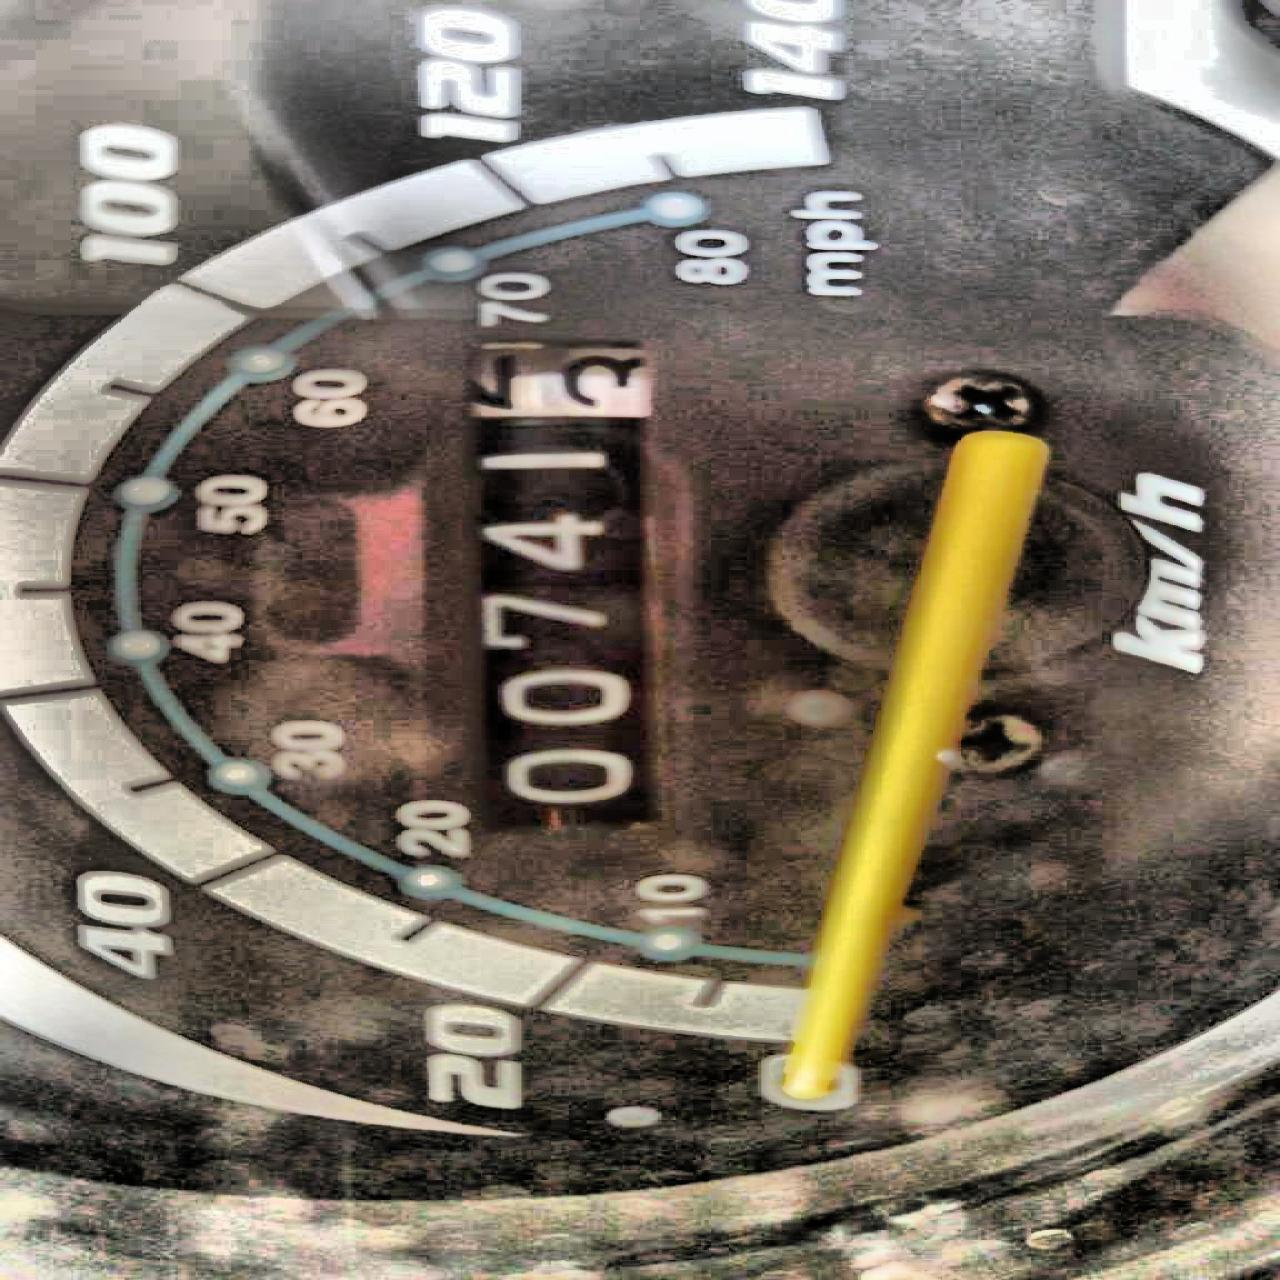0: (489, 665, 642, 729), (489, 743, 640, 805)
1: (458, 438, 625, 483)
2: (447, 346, 529, 415)
3: (549, 347, 658, 413)
4: (469, 508, 620, 572)
7: (464, 585, 625, 655)
odometer: (441, 327, 667, 837)
